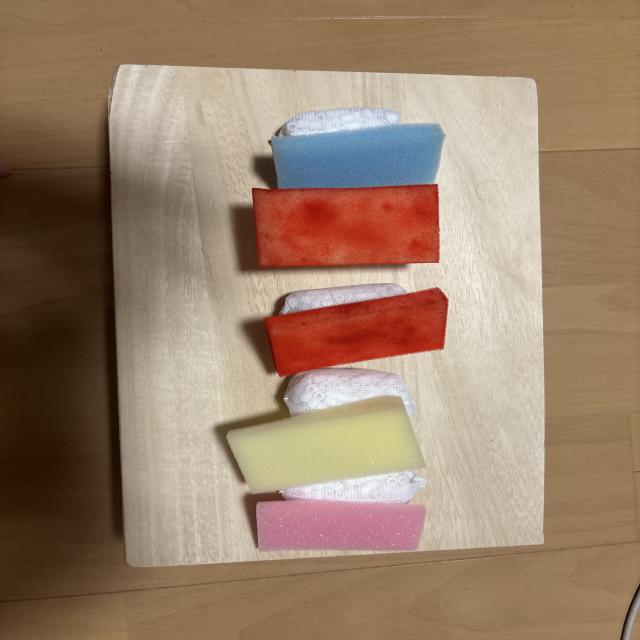NG: (227, 368, 425, 493), (264, 283, 448, 377), (272, 107, 445, 188), (256, 471, 425, 551)
salmon: (253, 184, 440, 267)
